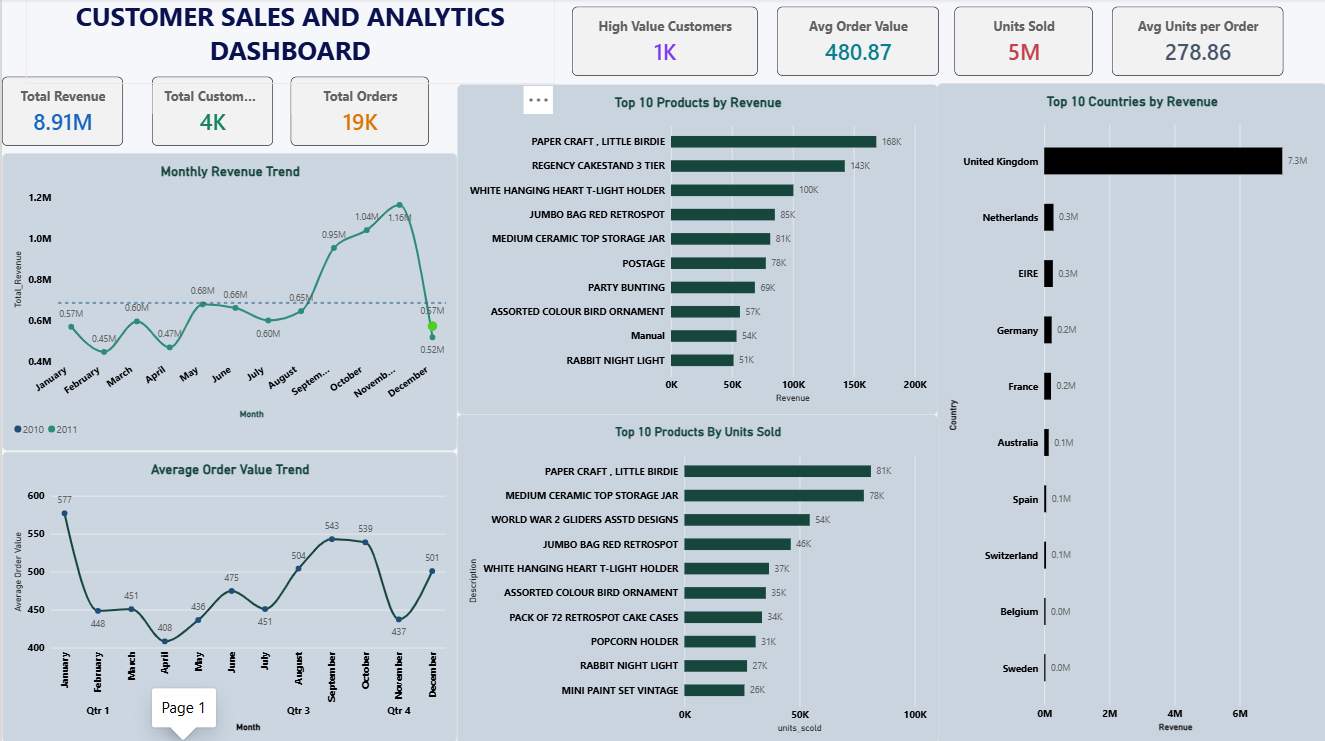

What the dashboard file says about the page in this screenshot:
{"tool":"powerbi","page":{"name":"Page 1","canvas":[1920,1080],"ordinal":0},"visuals":[{"type":"cardVisual","fields":{"Data":["rfm_customer_analysis retail_clean.Total_Revenue"]},"box":[0,113.8,175,100],"z":0},{"type":"cardVisual","fields":{"Data":["rfm_customer_analysis customer_rfm_scored.total_customers"]},"box":[217.2,113.8,175,100],"z":1000},{"type":"cardVisual","fields":{"Data":["rfm_customer_analysis retail_clean.Avg_order_value"]},"box":[1121.9,12.5,234.5,100],"z":2000},{"type":"cardVisual","fields":{"Data":["rfm_customer_analysis customer_rfm_scored.high_value_customers"]},"box":[825,12.5,269,100],"z":3000},{"type":"lineChart","title":"Monthly Revenue Trend","fields":{"Category":["rfm_customer_analysis retail_clean.InvoiceDate.Variation.Date Hierarchy.Month"],"Series":["rfm_customer_analysis retail_clean.InvoiceDate.Variation.Date Hierarchy.Year"],"Y":["rfm_customer_analysis retail_clean.Total_Revenue"]},"box":[0,225,659.4,431.2],"z":4000},{"type":"barChart","title":"Top 10 Products by Revenue","fields":{"Category":["rfm_customer_analysis retail_clean.Description"],"Y":["rfm_customer_analysis retail_clean.Total_Revenue"]},"box":[659.4,125,696.9,478.1],"z":5000},{"type":"barChart","title":" Top 10 Countries by Revenue ","fields":{"Category":["rfm_customer_analysis retail_clean.Country"],"Y":["rfm_customer_analysis retail_clean.Total_Revenue"]},"box":[1354.5,122.2,564.1,955.7],"z":6000},{"type":"cardVisual","fields":{"Data":["rfm_customer_analysis retail_clean.Total_orders"]},"box":[417.2,113.8,200,100],"z":7000},{"type":"cardVisual","fields":{"Data":["rfm_customer_analysis retail_clean.Avg_units_per_order"]},"box":[1606.2,12.5,248.3,100],"z":8000},{"type":"cardVisual","fields":{"Data":["rfm_customer_analysis retail_clean.units_scold"]},"box":[1378.1,12.5,200,100],"z":9000},{"type":"lineChart","title":"Average Order Value Trend","fields":{"Category":["rfm_customer_analysis retail_clean.InvoiceDate.Variation.Date Hierarchy.Quarter","rfm_customer_analysis retail_clean.InvoiceDate.Variation.Date Hierarchy.Month"],"Y":["rfm_customer_analysis retail_clean.Avg_order_value"]},"box":[0,656.2,659.4,421.9],"z":10000},{"type":"barChart","title":"Top 10 Products By Units Sold ","fields":{"Category":["rfm_customer_analysis retail_clean.Description"],"Y":["rfm_customer_analysis retail_clean.units_scold"]},"box":[659.4,603.1,696.9,478.1],"z":11000},{"type":"textbox","box":[34.4,0,765.6,125],"z":12000}]}

Visuals, with their boxes in screenshot pixels (x1, y1, x2, y2), scaled from the page's 1920x1080 canvas onto the 1325x741 screenshot:
cardVisual - rfm_customer_analysis retail_clean.Total_Revenue: Rect(0, 78, 121, 147)
cardVisual - rfm_customer_analysis customer_rfm_scored.total_customers: Rect(150, 78, 271, 147)
cardVisual - rfm_customer_analysis retail_clean.Avg_order_value: Rect(774, 9, 936, 77)
cardVisual - rfm_customer_analysis customer_rfm_scored.high_value_customers: Rect(569, 9, 755, 77)
"Monthly Revenue Trend" lineChart: Rect(0, 154, 455, 450)
"Top 10 Products by Revenue" barChart: Rect(455, 86, 936, 414)
" Top 10 Countries by Revenue " barChart: Rect(935, 84, 1324, 740)
cardVisual - rfm_customer_analysis retail_clean.Total_orders: Rect(288, 78, 426, 147)
cardVisual - rfm_customer_analysis retail_clean.Avg_units_per_order: Rect(1108, 9, 1280, 77)
cardVisual - rfm_customer_analysis retail_clean.units_scold: Rect(951, 9, 1089, 77)
"Average Order Value Trend" lineChart: Rect(0, 450, 455, 740)
"Top 10 Products By Units Sold " barChart: Rect(455, 414, 936, 740)
textbox: Rect(24, 0, 552, 86)
